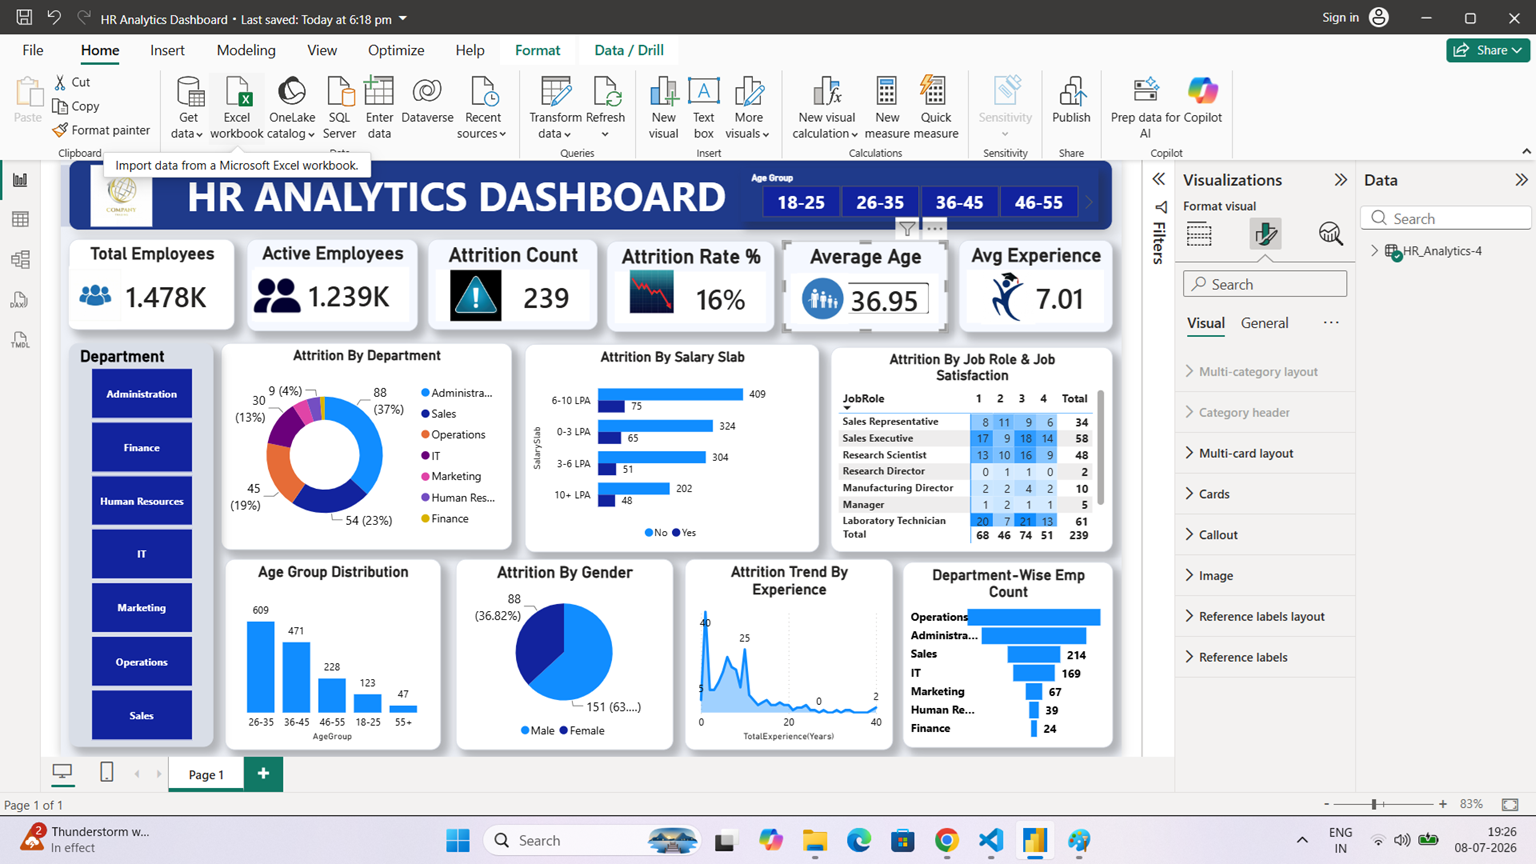

What the dashboard file says about the page in this screenshot:
{"tool":"powerbi","page":{"name":"Page 1","canvas":[1280,720],"ordinal":0},"visuals":[{"type":"textbox","box":[10,0,1259,85],"z":0},{"type":"image","box":[0,5.5,146.8,74.1],"z":1000},{"type":"cardVisual","title":"Total Employees","fields":{"Data":["CountNonNull(HR_Analytics-4.EmpID)"]},"box":[9.7,95.3,200.3,109.8],"z":2000},{"type":"cardVisual","title":"Active Employees","fields":{"Data":["CountNonNull(HR_Analytics-4.EmployeeCount)"]},"box":[224.4,95.3,206.3,109.8],"z":3000},{"type":"cardVisual","title":"Attrition Count","fields":{"Data":["Sum(HR_Analytics-4.Attrition Count)"]},"box":[442.8,95.3,205.1,109.8],"z":4000},{"type":"cardVisual","title":"Attrition Rate %","fields":{"Data":["HR_Analytics-4.Attrition Rate %"]},"box":[658.7,97.7,202.7,109.8],"z":5000},{"type":"cardVisual","title":"Average Age","fields":{"Data":["Avg(HR_Analytics-4.Age)"]},"box":[871.4,97.4,199,109.8],"z":6000},{"type":"cardVisual","title":"Avg Experience","fields":{"Data":["Avg(HR_Analytics-4.YearsatCompany)"]},"box":[1083.4,96.5,185.8,109.8],"z":7000},{"type":"image","box":[9.6,123.5,64.5,81],"z":8000},{"type":"image","box":[1084.1,133.1,116.6,65.9],"z":9000},{"type":"image","box":[443.2,133.1,116.6,61.7],"z":10000},{"type":"image","box":[225,133.1,71.4,61.7],"z":11000},{"type":"image","box":[849.4,135.8,140,61.7],"z":12000},{"type":"image","box":[639.5,133.1,146.8,52.1],"z":13000},{"type":"donutChart","title":"Attrition By Department","fields":{"Category":["HR_Analytics-4.Department"],"Y":["Sum(HR_Analytics-4.Attrition Count)"]},"box":[193.5,220.9,351.3,249.7],"z":14000},{"type":"clusteredBarChart","title":"Attrition By Salary Slab","fields":{"Category":["HR_Analytics-4.SalarySlab"],"Y":["CountNonNull(HR_Analytics-4.EmpID)"],"Series":["HR_Analytics-4.Attrition"]},"box":[559.9,222.3,355.4,251.1],"z":15000},{"type":"pivotTable","title":"Attrition By Job Role & Job Satisfaction","fields":{"Rows":["HR_Analytics-4.JobRole"],"Values":["Sum(HR_Analytics-4.Attrition Count)"],"Columns":["HR_Analytics-4.JobSatisfaction"]},"box":[929,225,340.3,247],"z":16000},{"type":"columnChart","title":"Age Group Distribution","fields":{"Category":["HR_Analytics-4.AgeGroup"],"Y":["Sum(HR_Analytics-4.EmployeeCount)"]},"box":[197.6,481.6,260.7,230.5],"z":17000},{"type":"pieChart","title":"Attrition By Gender","fields":{"Category":["HR_Analytics-4.Gender"],"Y":["Sum(HR_Analytics-4.Attrition Count)"]},"box":[476.2,481.6,262.1,230.5],"z":18000},{"type":"areaChart","title":"Attrition Trend By Experience","fields":{"Category":["HR_Analytics-4.TotalExperience(Years)"],"Y":["Sum(HR_Analytics-4.Attrition Count)"]},"box":[753.3,481.6,251.1,230.5],"z":19000},{"type":"funnel","title":"Department-Wise Emp Count","fields":{"Category":["HR_Analytics-4.Department"],"Y":["CountNonNull(HR_Analytics-4.EmpID)"]},"box":[1015.4,484.4,253.9,223.7],"z":20000},{"type":"slicer","fields":{"Values":["HR_Analytics-4.Department"]},"box":[9.6,220.9,174.3,487.1],"z":21000},{"type":"slicer","fields":{"Values":["HR_Analytics-4.AgeGroup"]},"box":[820.6,9.6,430.9,64.5],"z":22000}]}

Visuals, with their boxes on the page's 1280x720 design canvas (x1, y1, x2, y2). These are canvas units, not pixel positions in the 1536x864 screenshot, which may show the page scaled, cropped or inside an application window:
textbox: pyautogui.locateOnScreen(10, 0, 1269, 85)
image: pyautogui.locateOnScreen(0, 6, 147, 80)
"Total Employees" cardVisual: pyautogui.locateOnScreen(10, 95, 210, 205)
"Active Employees" cardVisual: pyautogui.locateOnScreen(224, 95, 431, 205)
"Attrition Count" cardVisual: pyautogui.locateOnScreen(443, 95, 648, 205)
"Attrition Rate %" cardVisual: pyautogui.locateOnScreen(659, 98, 861, 208)
"Average Age" cardVisual: pyautogui.locateOnScreen(871, 97, 1070, 207)
"Avg Experience" cardVisual: pyautogui.locateOnScreen(1083, 96, 1269, 206)
image: pyautogui.locateOnScreen(10, 124, 74, 204)
image: pyautogui.locateOnScreen(1084, 133, 1201, 199)
image: pyautogui.locateOnScreen(443, 133, 560, 195)
image: pyautogui.locateOnScreen(225, 133, 296, 195)
image: pyautogui.locateOnScreen(849, 136, 989, 198)
image: pyautogui.locateOnScreen(640, 133, 786, 185)
"Attrition By Department" donutChart: pyautogui.locateOnScreen(194, 221, 545, 471)
"Attrition By Salary Slab" clusteredBarChart: pyautogui.locateOnScreen(560, 222, 915, 473)
"Attrition By Job Role & Job Satisfaction" pivotTable: pyautogui.locateOnScreen(929, 225, 1269, 472)
"Age Group Distribution" columnChart: pyautogui.locateOnScreen(198, 482, 458, 712)
"Attrition By Gender" pieChart: pyautogui.locateOnScreen(476, 482, 738, 712)
"Attrition Trend By Experience" areaChart: pyautogui.locateOnScreen(753, 482, 1004, 712)
"Department-Wise Emp Count" funnel: pyautogui.locateOnScreen(1015, 484, 1269, 708)
slicer - HR_Analytics-4.Department: pyautogui.locateOnScreen(10, 221, 184, 708)
slicer - HR_Analytics-4.AgeGroup: pyautogui.locateOnScreen(821, 10, 1252, 74)
